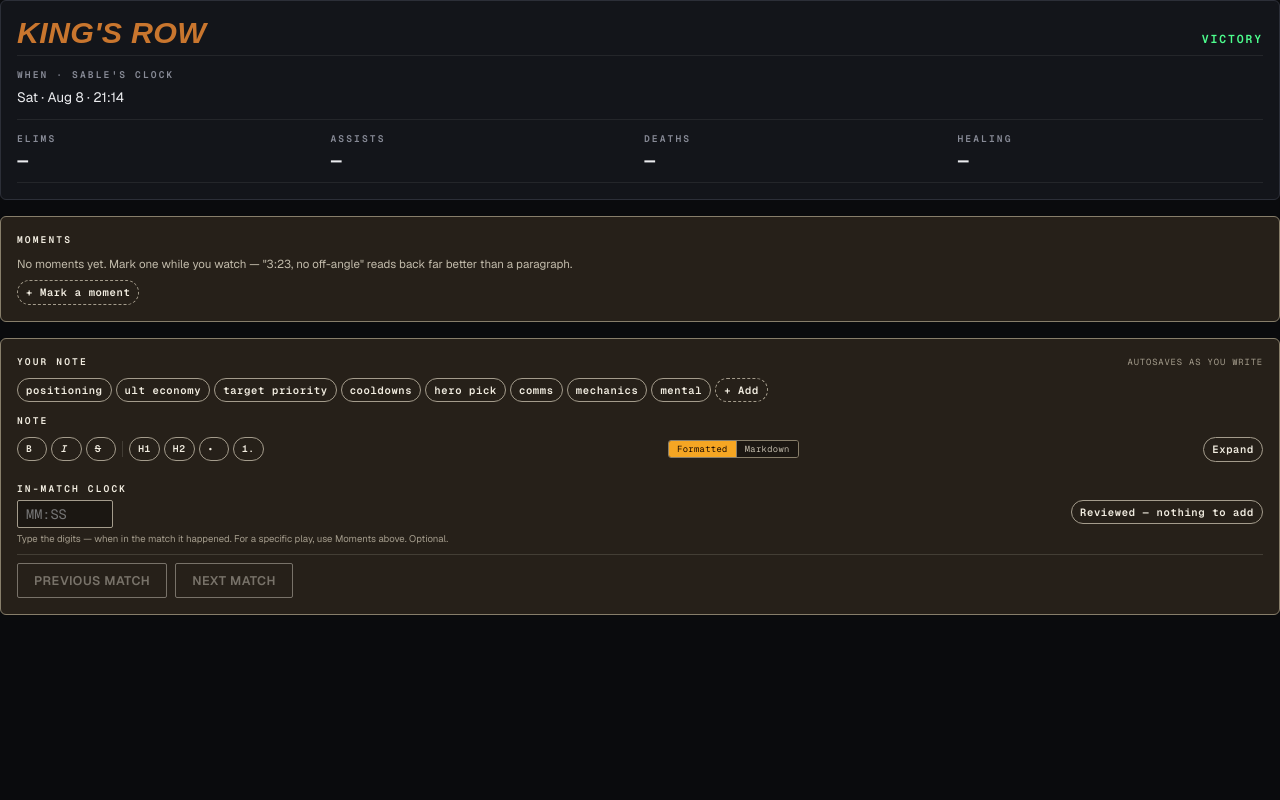
CoachDesk › puts the match on the desk with its note editor
Expected: the element that starts with "King's Row" is shown, [0,0,1279,200]
Expected: the heading "King's Row" is shown, [17,17,206,47]
Step 1. Click the button "Markdown" → (767, 449), box [736,441,798,457]
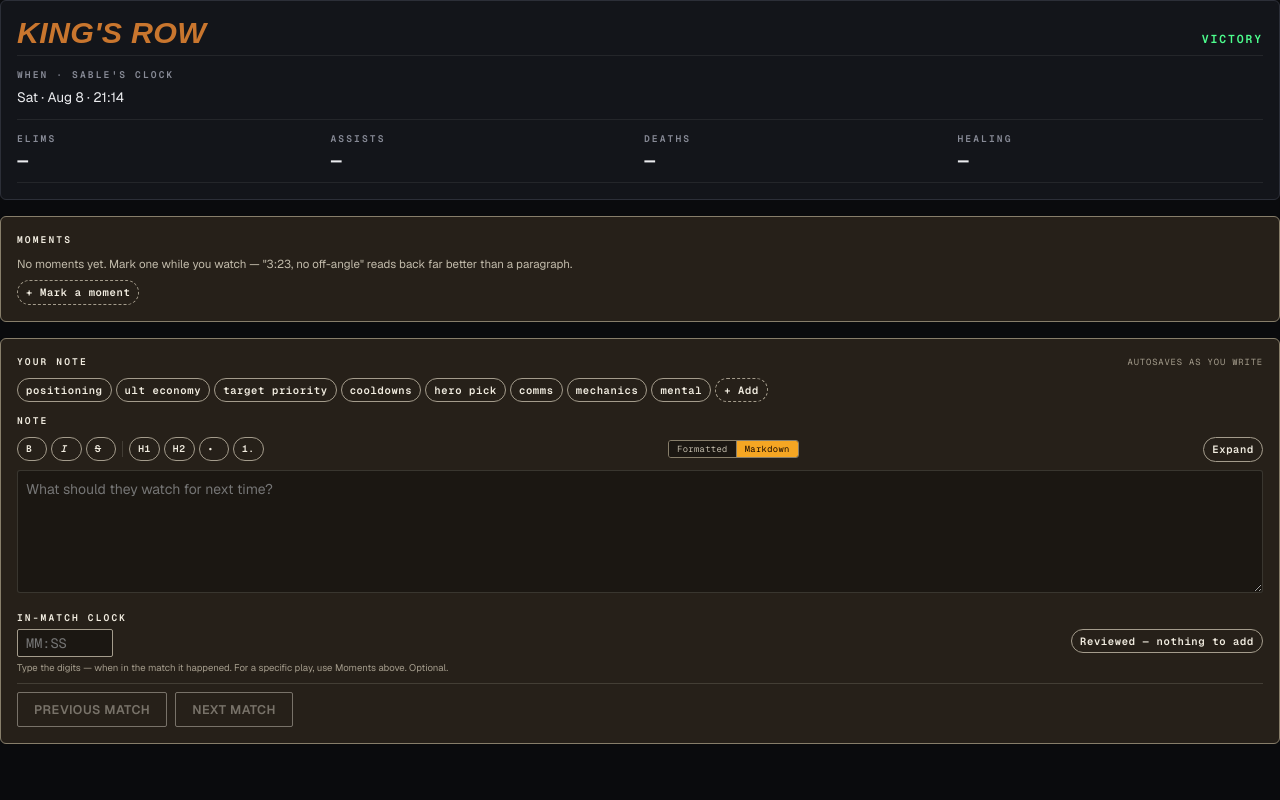
Result: the text box named "Note" is shown at [17,470,1263,593]
